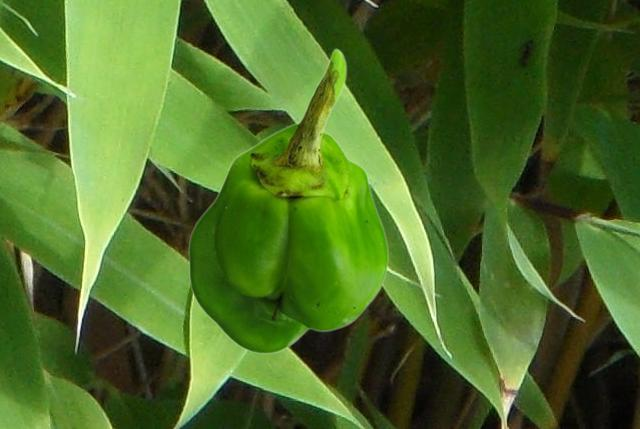bell_pepper: (187, 47, 388, 353)
